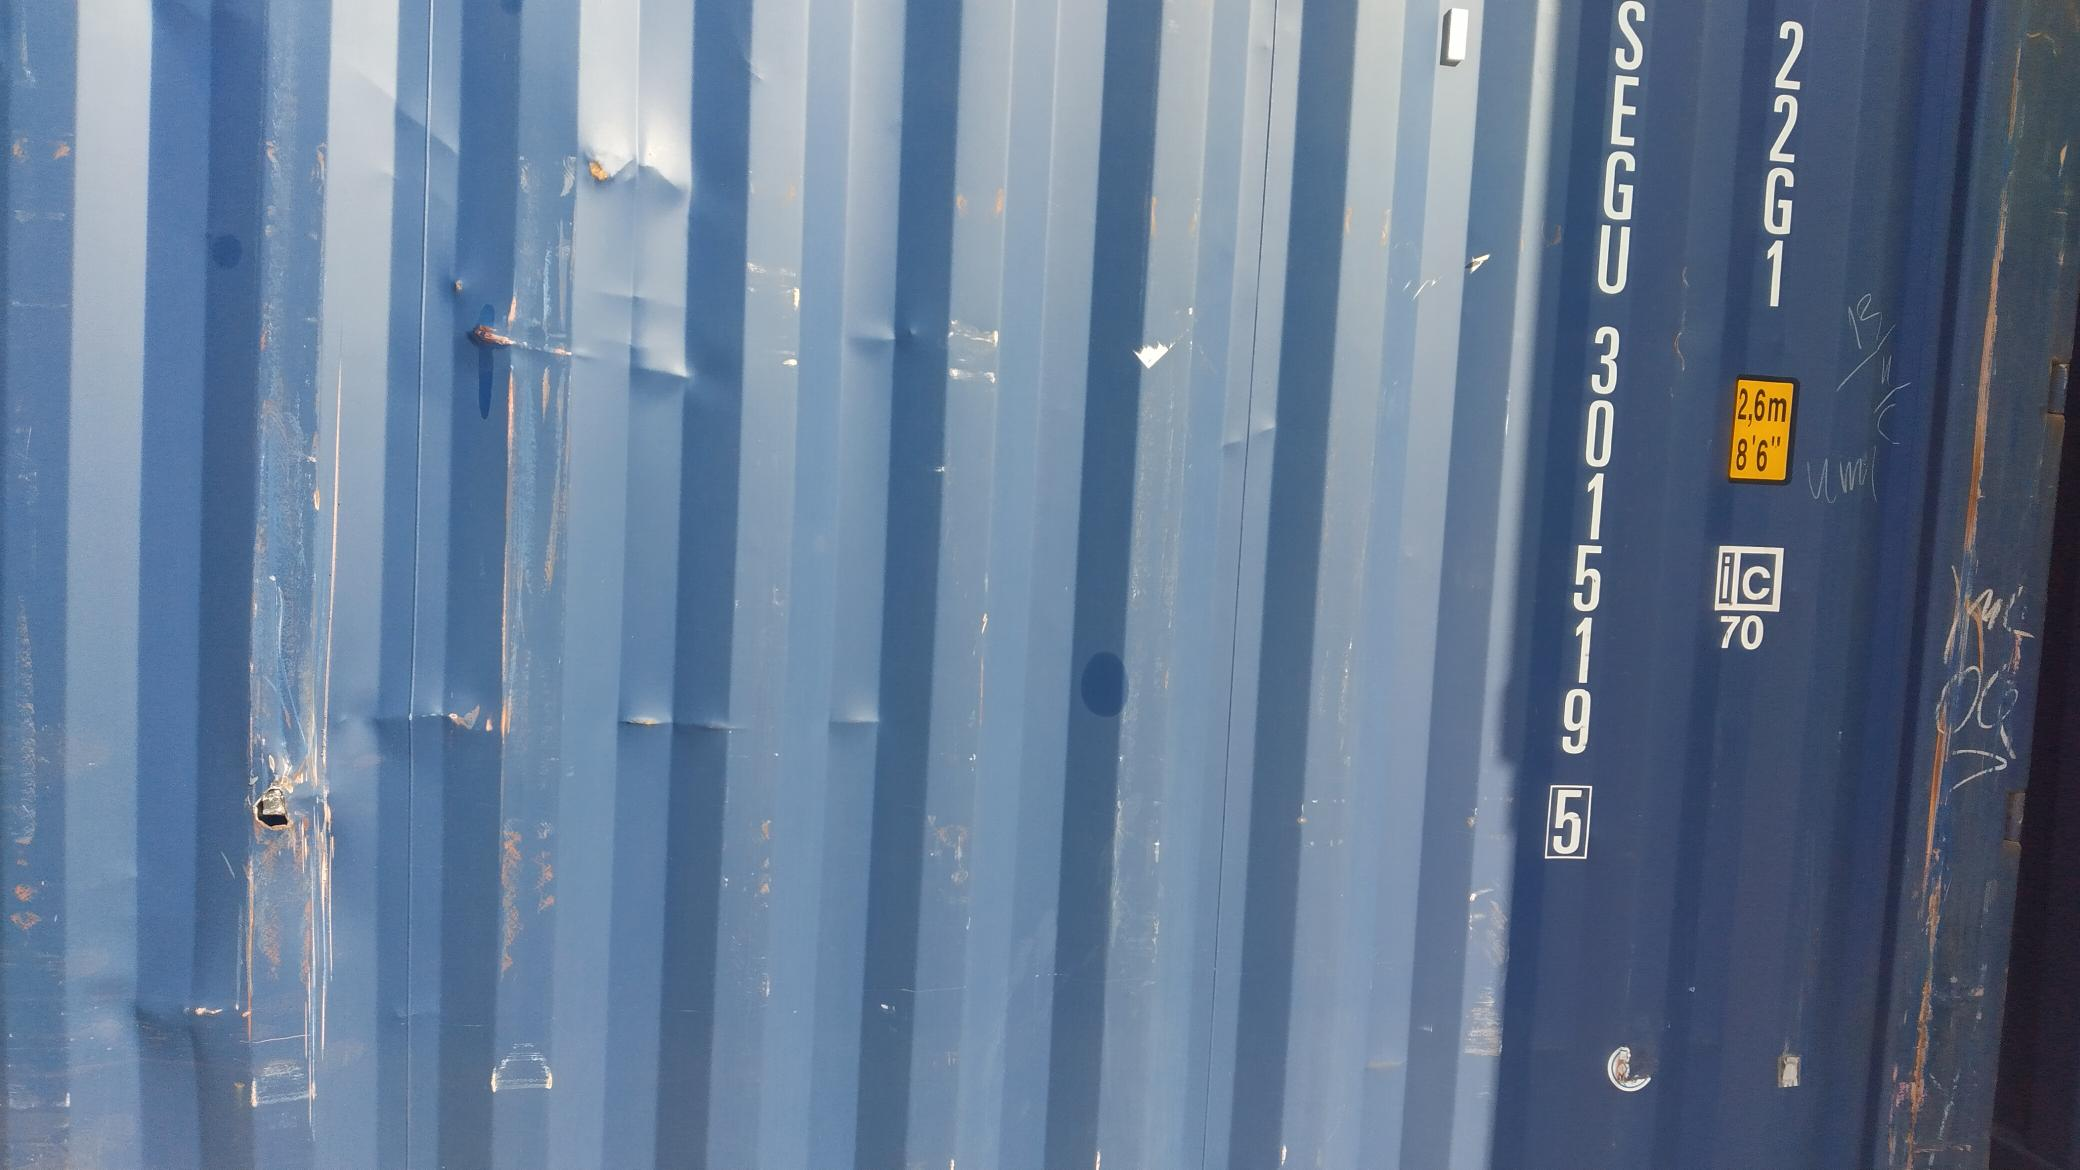cut: (201, 694, 354, 941)
dented: (439, 89, 789, 437), (434, 674, 799, 789)
